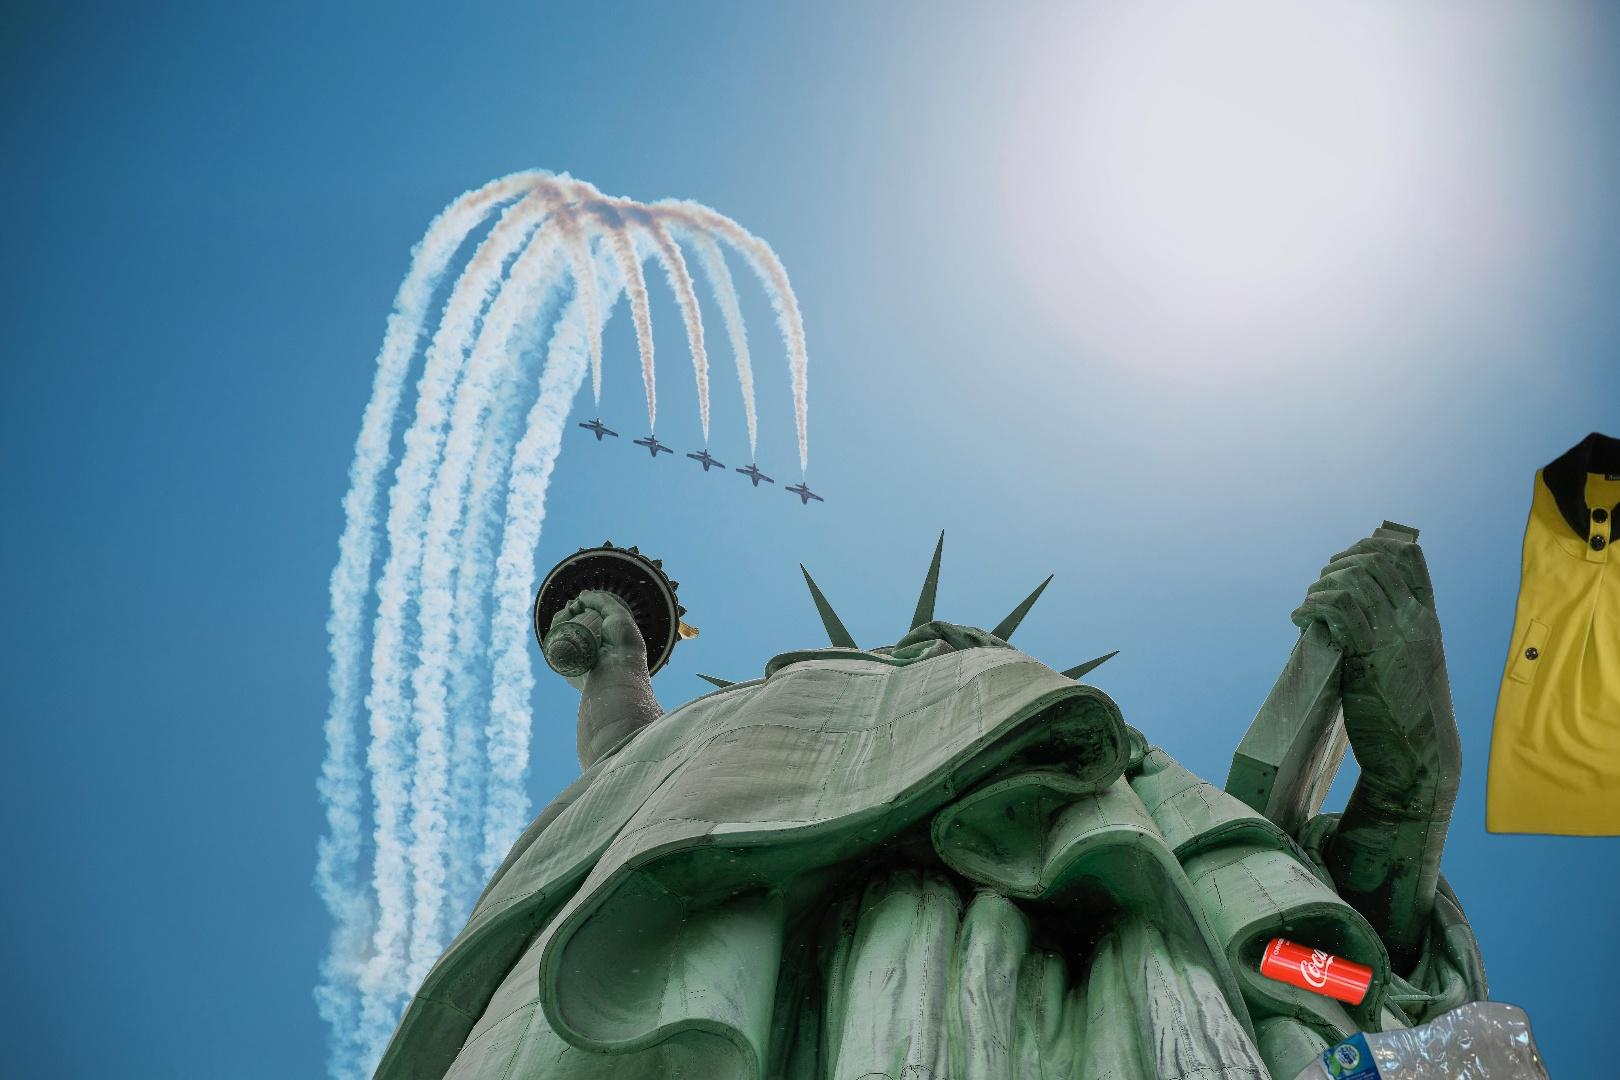clothes: (1483, 427, 1620, 844)
metal-cans: (1256, 706, 1490, 1012)
plastic-bottles: (1221, 999, 1565, 1080)
